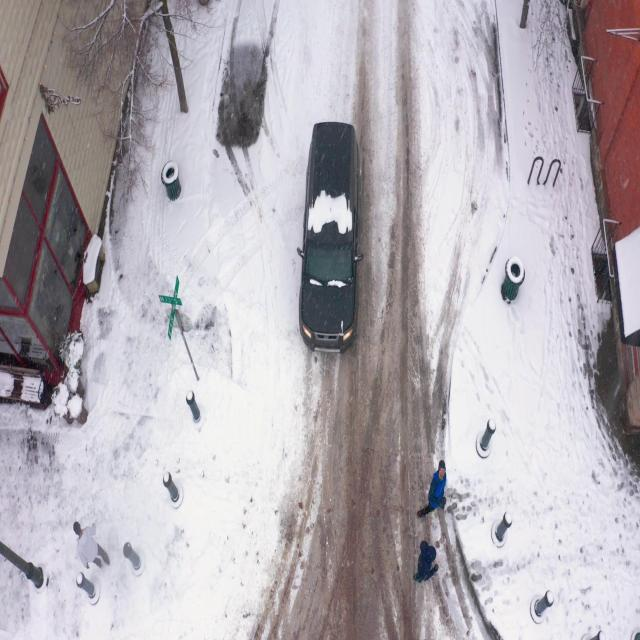Car: (295, 107, 372, 360)
